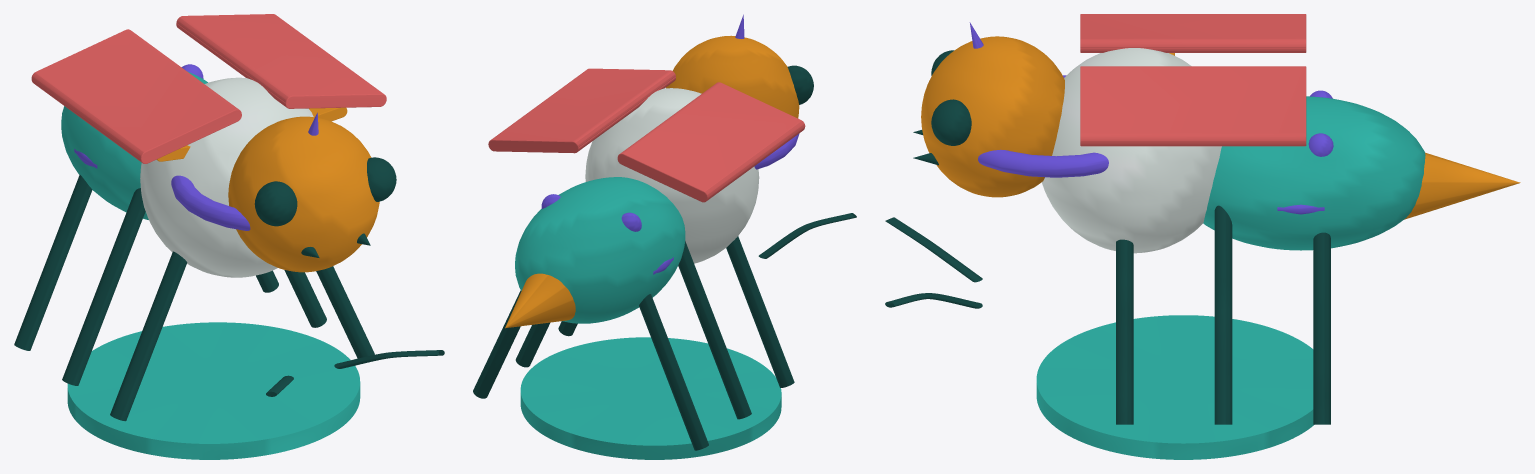
Rendered from 0012_昆虫图鉴_苍蝇.glb.
3 renders of one model, left to right at view 1: azimuth 30°, elevation 25°; view 2: azimuth 150°, elevation 25°; view 3: azimuth 270°, elevation 25°, orthographic. The views are drawn at different scales.
Parts seen in each view (by area): view 1: card_0012; view 2: card_0012; view 3: card_0012.
Boxes of the visible parts, box(x1,y1,x2,y2) form: card_0012: box(14, 14, 444, 459); card_0012: box(473, 14, 856, 459); card_0012: box(885, 14, 1520, 459).
Bounding box in the file's own units: 0.7558 × 1 × 1.54.
